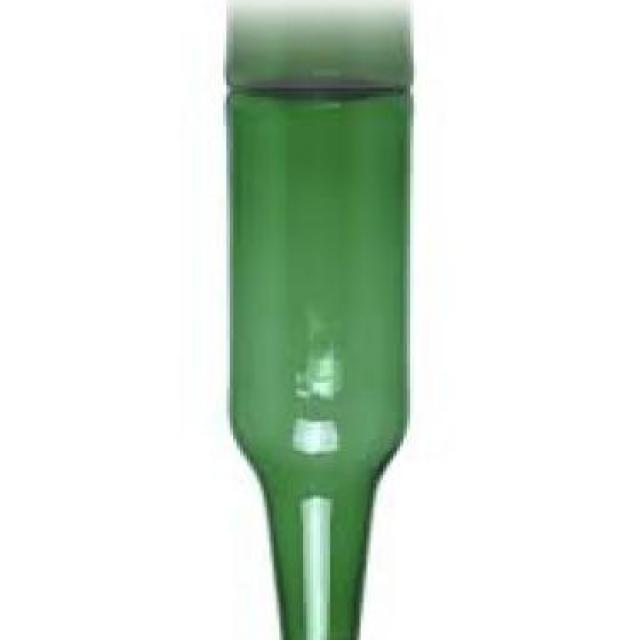kaca: (226, 87, 408, 640)
